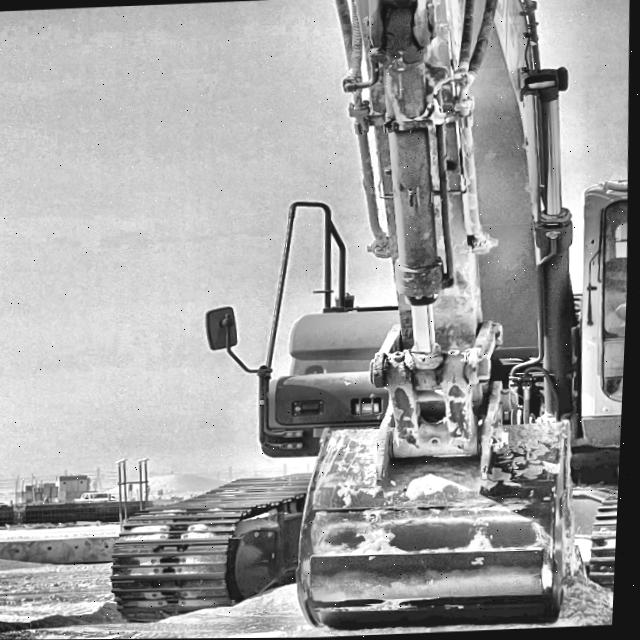excavator: (87, 0, 640, 639)
